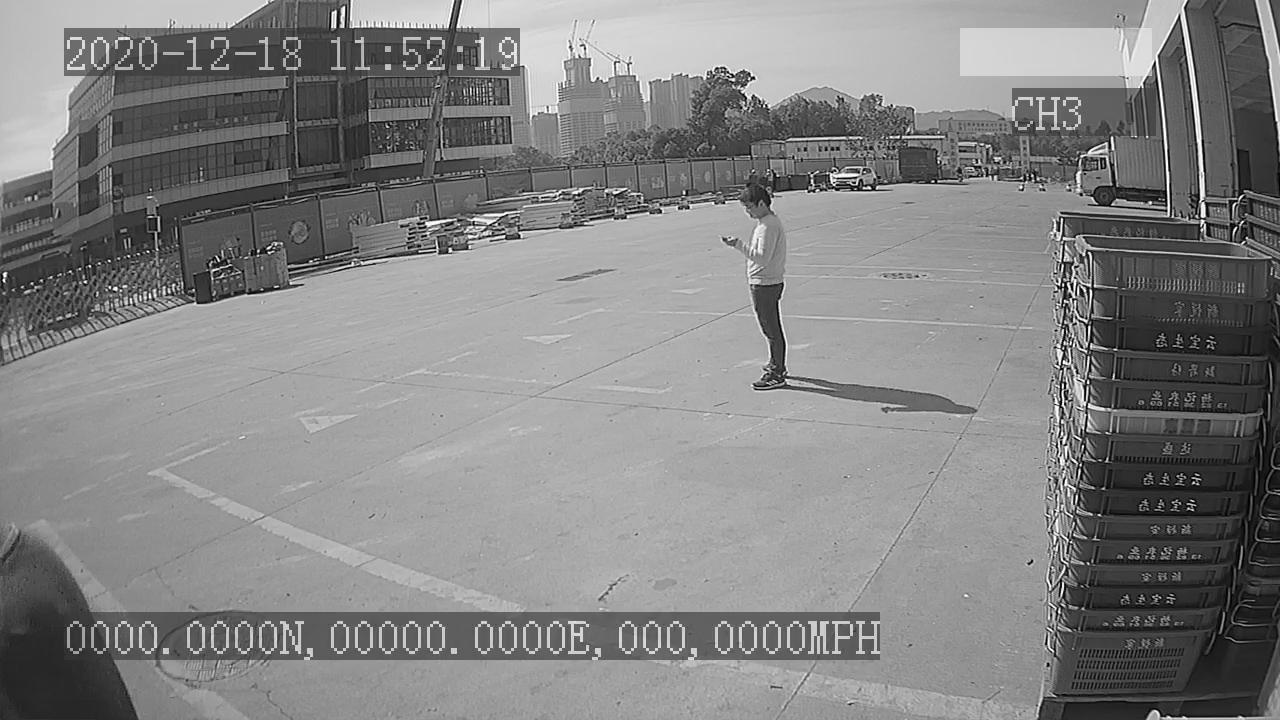person: (713, 185, 797, 397)
